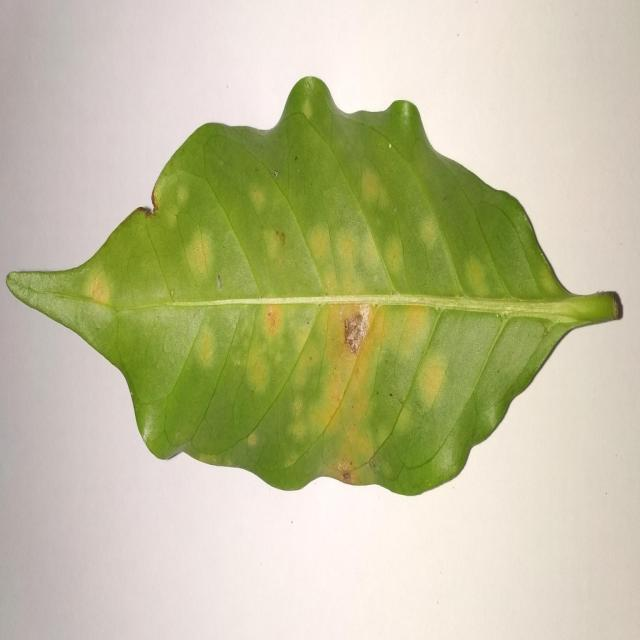Enfermedad-Roya: (5, 77, 623, 499)
